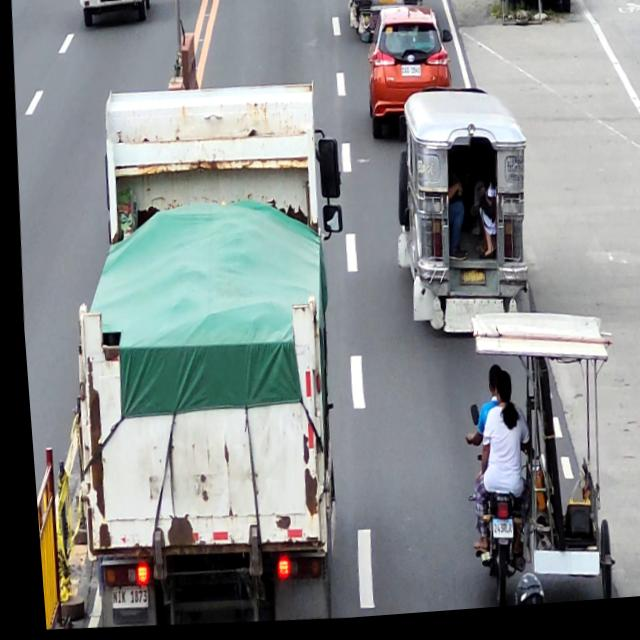Car: (354, 4, 457, 146)
Jeep: (380, 86, 536, 346), (342, 0, 425, 47)
License-Plate: (100, 584, 139, 612), (481, 524, 505, 546), (454, 274, 481, 292), (398, 70, 419, 84), (378, 0, 395, 11)
Tricycle: (451, 397, 613, 615)
Truck: (46, 75, 368, 638)
